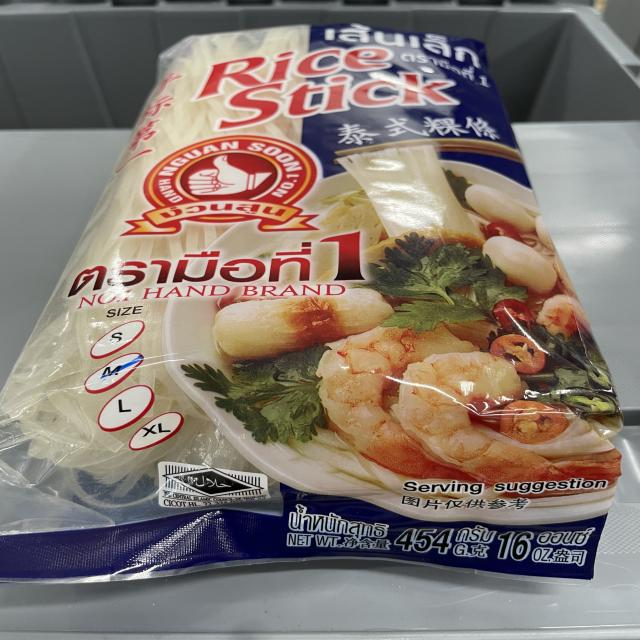object_name: (51, 37, 580, 564)
